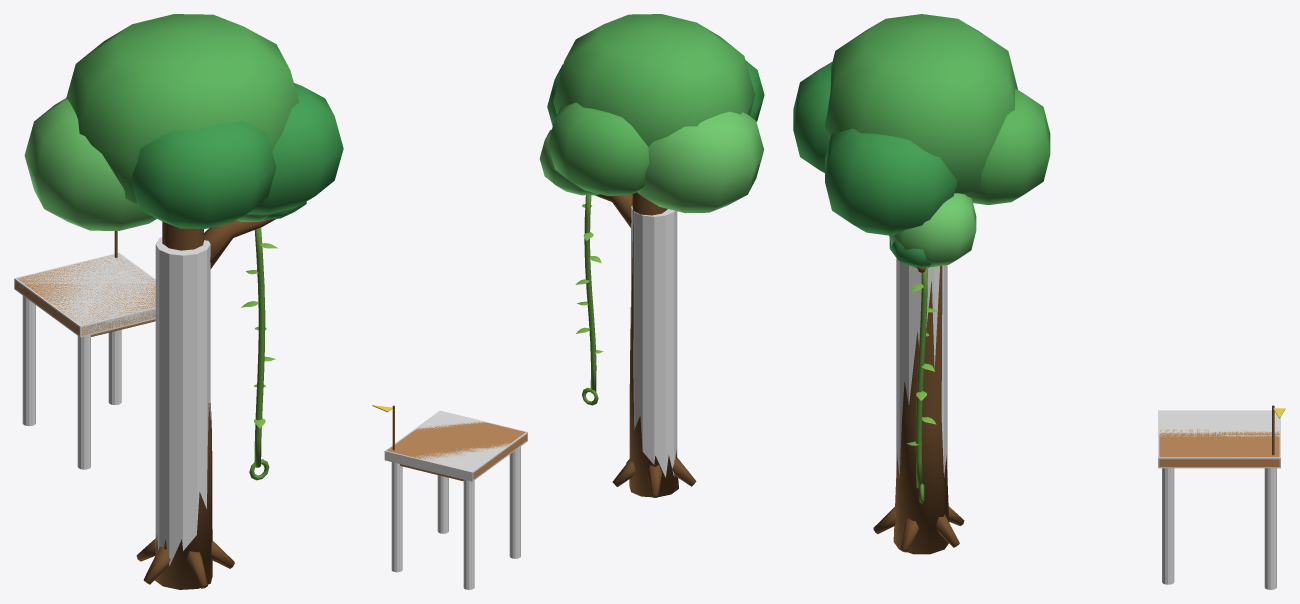
File: segredos-da-ilha.glb
3 renders of one model, left to right at view 1: azimuth 30°, elevation 25°; view 2: azimuth 150°, elevation 25°; view 3: azimuth 270°, elevation 25°, orthographic. The views are drawn at different scales.
Visible parts, largest first — view 1: copa-cipo, col-cil-tronco-cipo-1, col-deque-segredo-1, arvore-do-cipo, deque-do-cipo, cipo-1, col-cil-poste-segredo-2, col-cil-poste-segredo-1, col-cil-poste-segredo-3; view 2: copa-cipo, col-cil-tronco-cipo-1, arvore-do-cipo, deque-do-cipo, col-deque-segredo-1, cipo-1, col-cil-poste-segredo-1, col-cil-poste-segredo-3, col-cil-poste-segredo-2, col-cil-poste-segredo-4; view 3: copa-cipo, arvore-do-cipo, col-cil-tronco-cipo-1, deque-do-cipo, col-deque-segredo-1, cipo-1, col-cil-poste-segredo-3, col-cil-poste-segredo-4.
Boxes of the visible parts, <box> form: copa-cipo: <box>24,14,343,230</box>; col-cil-tronco-cipo-1: <box>155,237,210,587</box>; col-deque-segredo-1: <box>14,252,155,337</box>; arvore-do-cipo: <box>136,219,275,589</box>; deque-do-cipo: <box>15,231,155,336</box>; cipo-1: <box>241,227,277,480</box>; col-cil-poste-segredo-2: <box>77,335,90,469</box>; col-cil-poste-segredo-1: <box>22,295,35,426</box>; col-cil-poste-segredo-3: <box>108,329,121,404</box>; copa-cipo: <box>539,14,764,213</box>; col-cil-tronco-cipo-1: <box>631,205,677,495</box>; arvore-do-cipo: <box>595,192,696,497</box>; deque-do-cipo: <box>372,405,527,481</box>; col-deque-segredo-1: <box>384,410,527,481</box>; cipo-1: <box>575,195,603,405</box>; col-cil-poste-segredo-1: <box>463,479,474,589</box>; col-cil-poste-segredo-3: <box>391,462,402,572</box>; col-cil-poste-segredo-2: <box>509,446,520,558</box>; col-cil-poste-segredo-4: <box>437,475,448,533</box>; copa-cipo: <box>793,14,1050,267</box>; arvore-do-cipo: <box>873,266,964,554</box>; col-cil-tronco-cipo-1: <box>896,258,947,477</box>; deque-do-cipo: <box>1159,405,1285,466</box>; col-deque-segredo-1: <box>1158,410,1280,468</box>; cipo-1: <box>906,267,938,503</box>; col-cil-poste-segredo-3: <box>1264,468,1276,589</box>; col-cil-poste-segredo-4: <box>1162,468,1174,584</box>.
Bounding box in the file's own units: 5.82 × 10.96 × 9.59.
